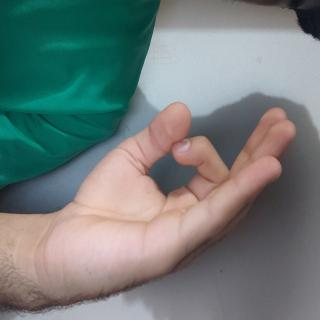Space: (71, 23, 239, 320)
